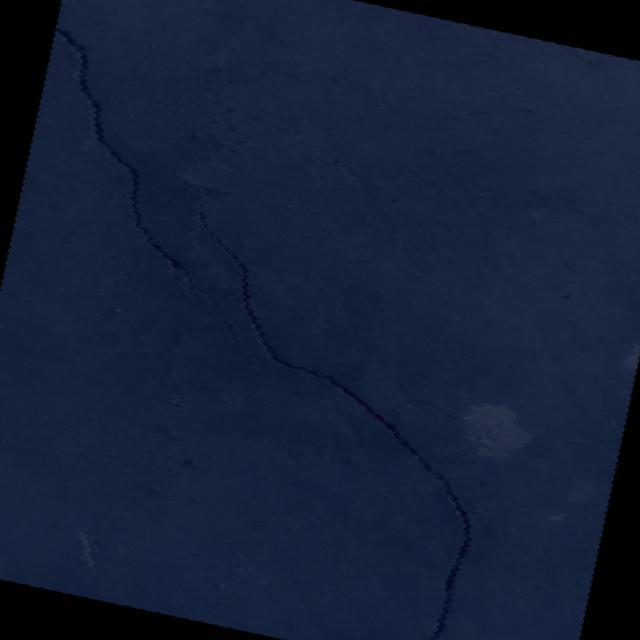crack: (79, 171, 532, 640), (0, 26, 295, 347)
